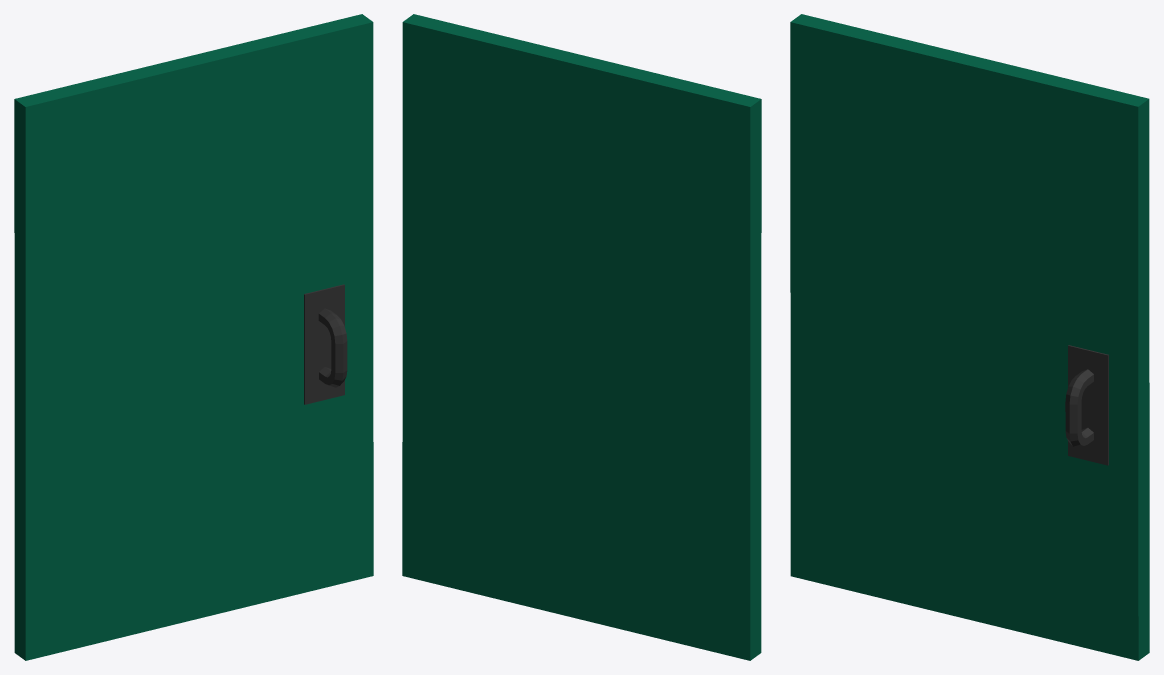
File: TintedGlassDoorSmallSquareTop1.fbx
3 renders of one model, left to right at view 1: azimuth 30°, elevation 25°; view 2: azimuth 150°, elevation 25°; view 3: azimuth 330°, elevation 25°, orthographic.
Parts seen in each view (by area): view 1: TintedGlassDoorSmallSquareTop1, Handle; view 2: TintedGlassDoorSmallSquareTop1; view 3: TintedGlassDoorSmallSquareTop1, Handle.
Part boxes in pixels (x1,y1,x2,y2): TintedGlassDoorSmallSquareTop1: (14,14,373,660); Handle: (304,284,347,404); TintedGlassDoorSmallSquareTop1: (402,14,761,660); TintedGlassDoorSmallSquareTop1: (790,14,1149,660); Handle: (1065,345,1108,465).
Bounding box in the file's own units: 181 × 276 × 27.51.
